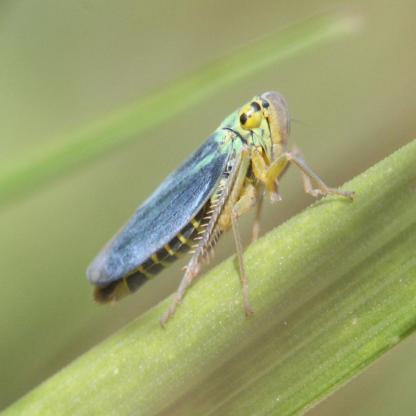Green-Leafhopper: (83, 88, 354, 333)
